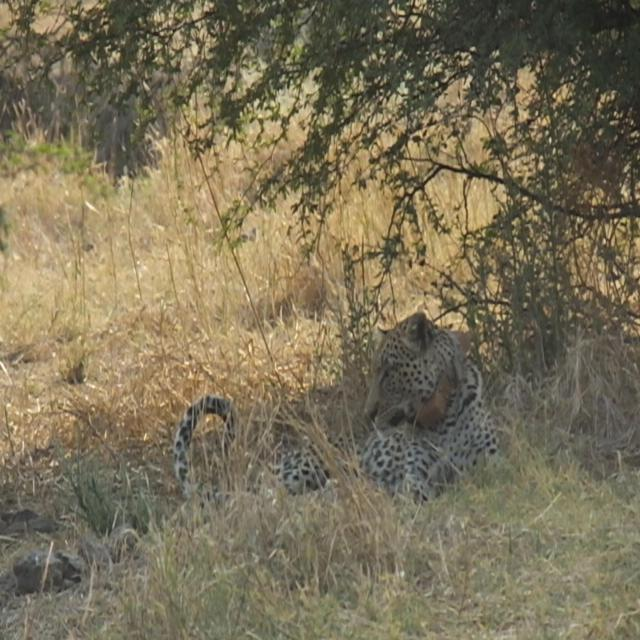Leopard: (145, 317, 524, 533)
